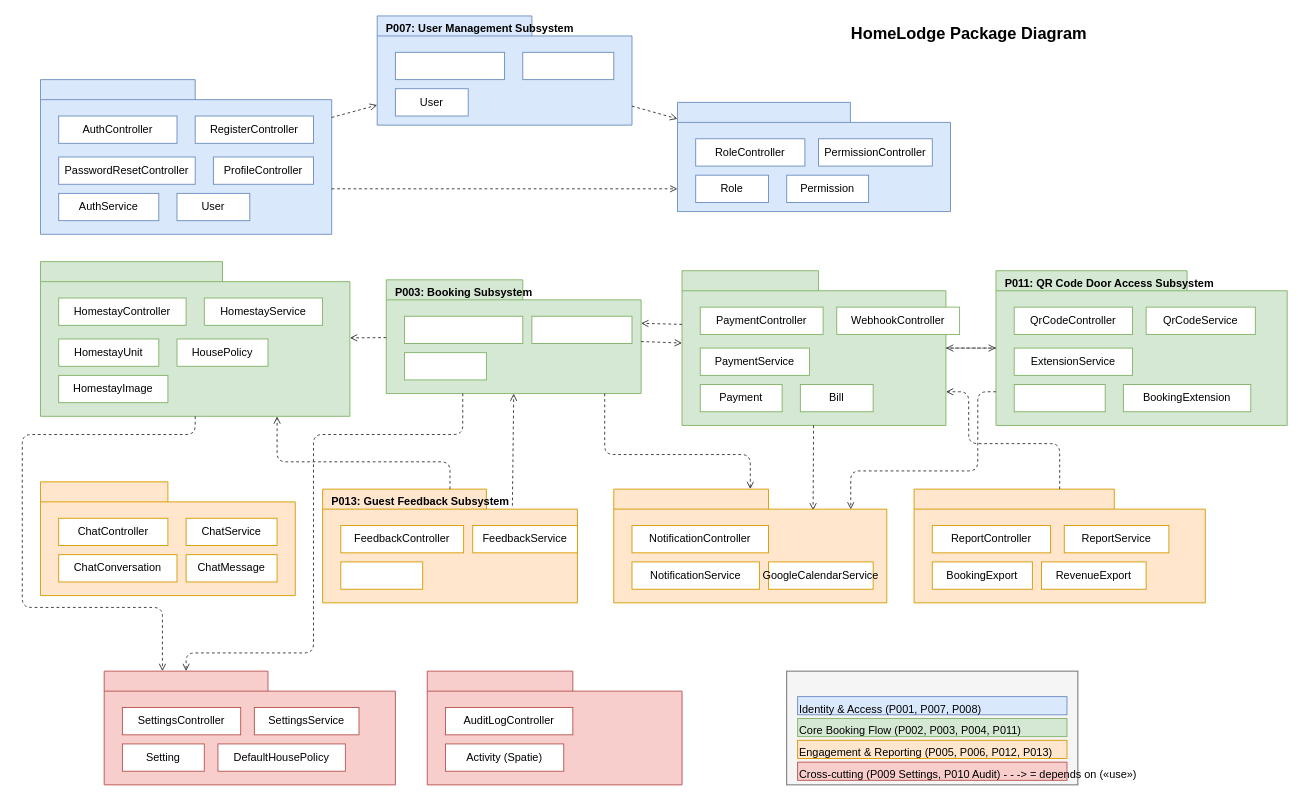
The diagram is 1303 pixels wide and 801 high, and some of its shapes have lost their labels. The shapes that lost their labels are listed below. From the top down, each one's box as (x1, y1, x2, y2) in pixels, then its label:
(394, 51, 505, 80): UserController
(522, 51, 614, 80): UserService
(40, 79, 332, 234): P001: Authentication Subsystem
(677, 101, 950, 212): P008: Role and Permission Subsystem
(40, 261, 350, 416): P002: Homestay Management Subsystem
(404, 315, 523, 344): BookingController
(531, 315, 632, 344): BookingService
(681, 270, 946, 425): P004: Payment Subsystem
(404, 352, 486, 380): Booking
(1013, 384, 1105, 412): QrCode
(40, 481, 295, 596): P006: Chat Subsystem
(613, 488, 887, 603): P005: Notification Subsystem
(913, 488, 1205, 603): P012: Reporting and Analytics Subsystem
(340, 561, 423, 589): Feedback
(103, 670, 395, 785): P009: System Settings Subsystem
(426, 670, 682, 785): P010: Audit Log Subsystem
(786, 670, 1078, 785): Legend
